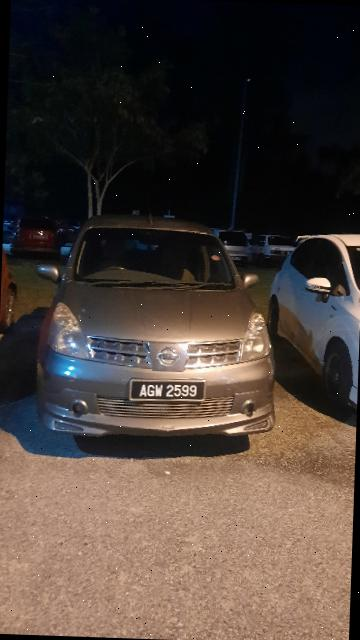License_Plate: (125, 378, 207, 404)
car: (25, 218, 286, 447)
